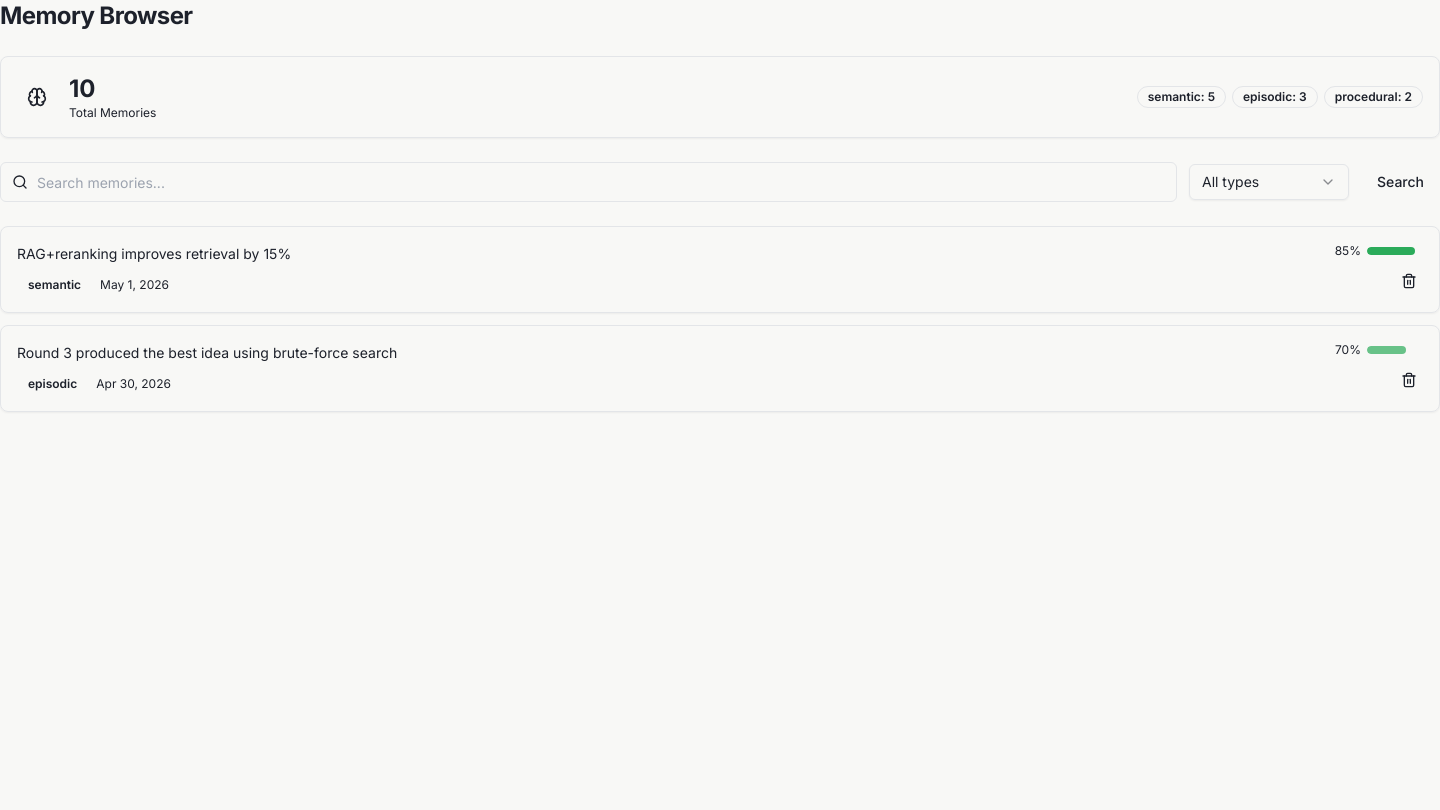
it: BATCH-19/TASK-02: Memory Browser Page › TEST-19-02-04: Delete confirmation removes memory from list
The image size is (1440, 810).
Expected: the text "RAG+reranking improves retrieval by 15%" is shown, [17,245,291,262]
Click the button with test id "delete-memory-btn" at (1409, 281), box [1395,267,1423,295]
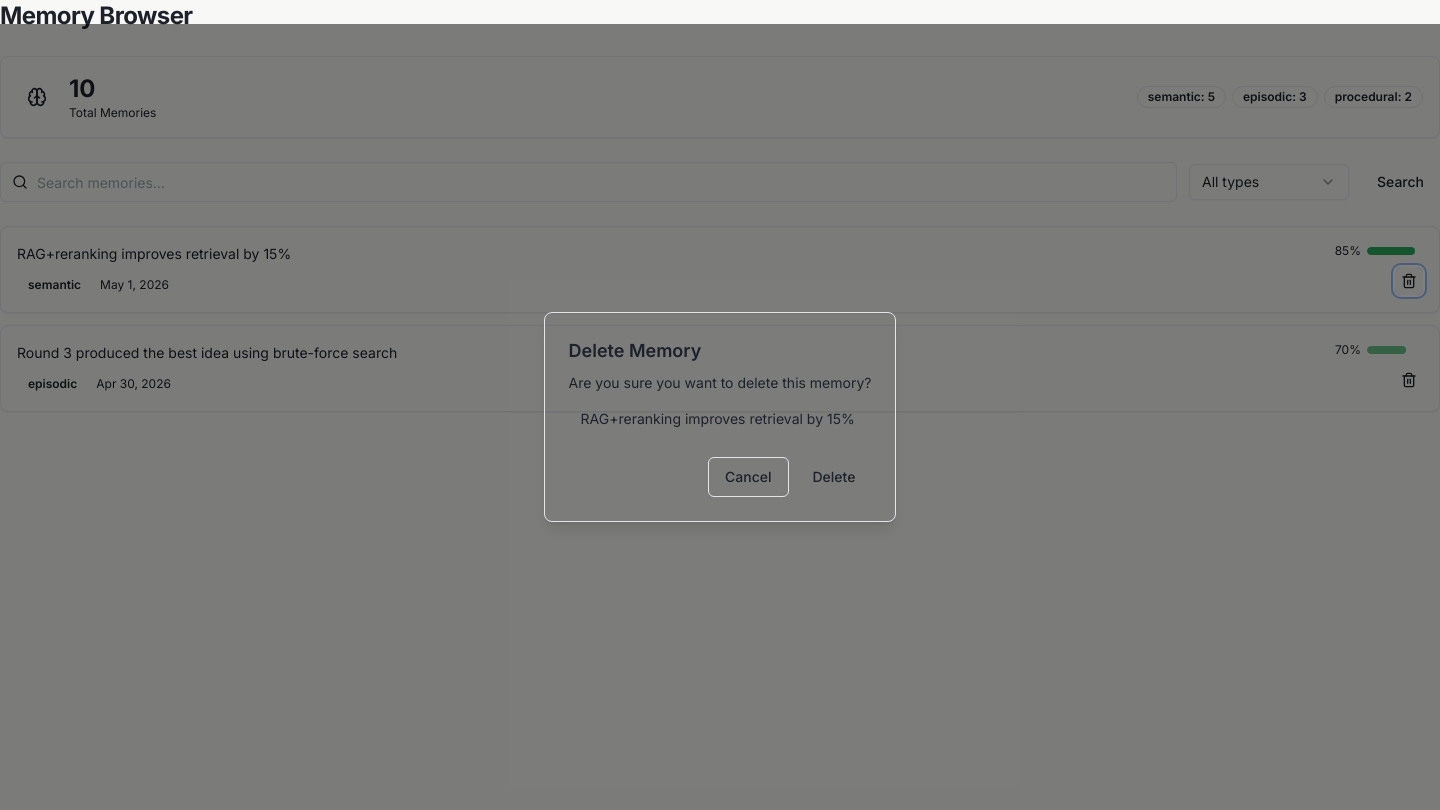
Now the element with test id "delete-confirm-dialog" is shown
Click the button with test id "confirm-delete-btn" at (834, 477), box [796,457,871,497]
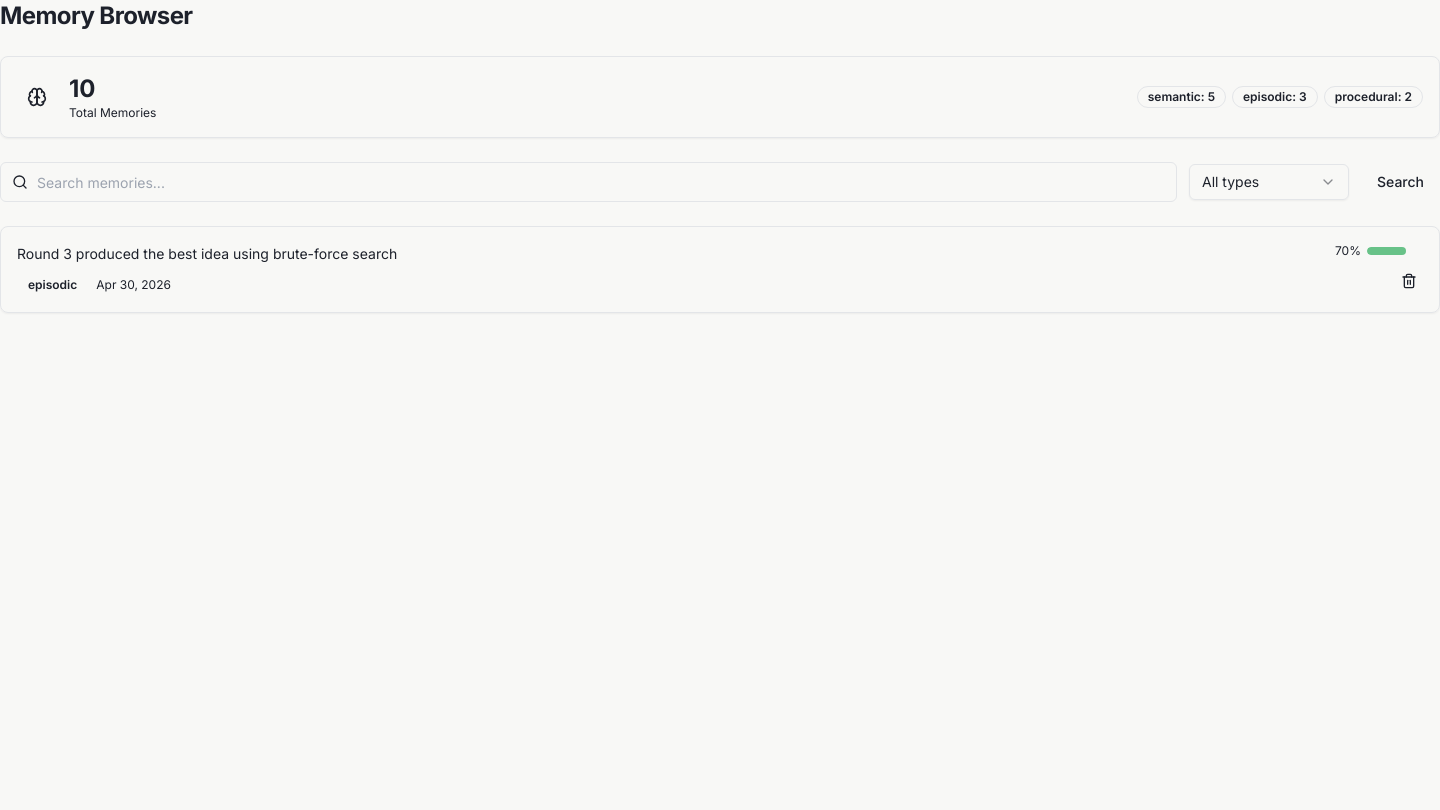
Now the text "RAG+reranking" is gone
